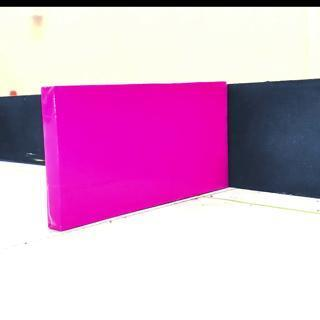xparking: (43, 88, 227, 216)
